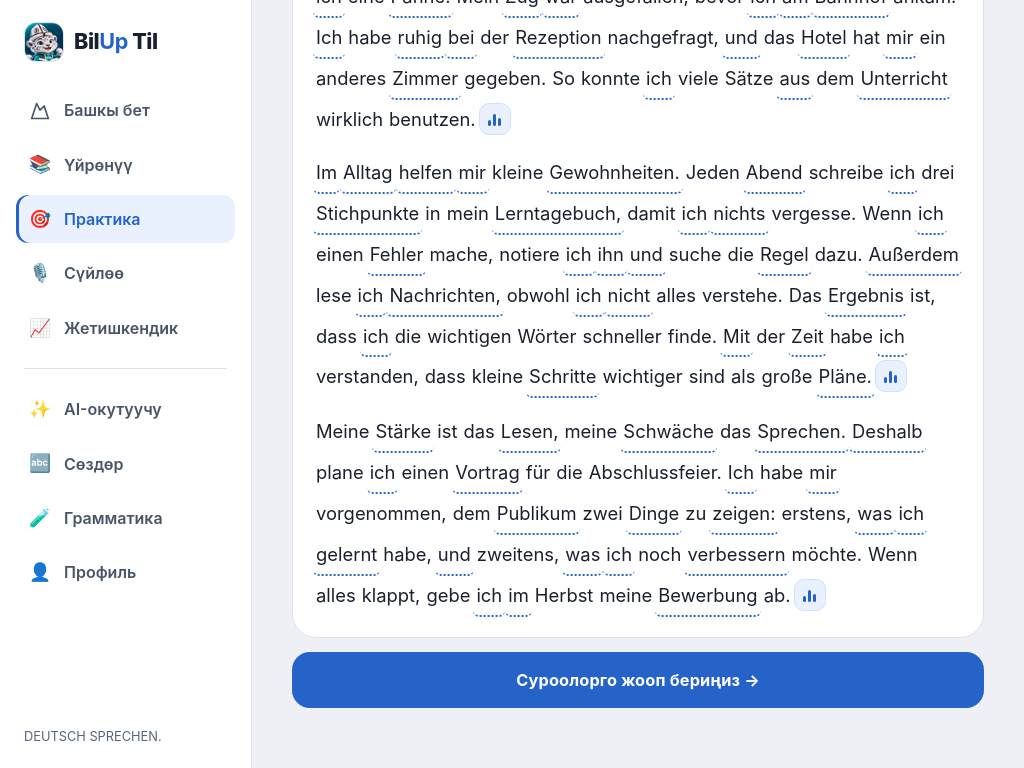
Scenario: reading and listening flows › ky: the reading shows its text and questions; answering one gives feedback and no error is logged
Later steps or results of the test are not shown.
(page scrolled)
Step 1. Click the button "Суроолорго жооп бериңиз →" → (638, 680), box [292,652,984,708]
(page scrolled)
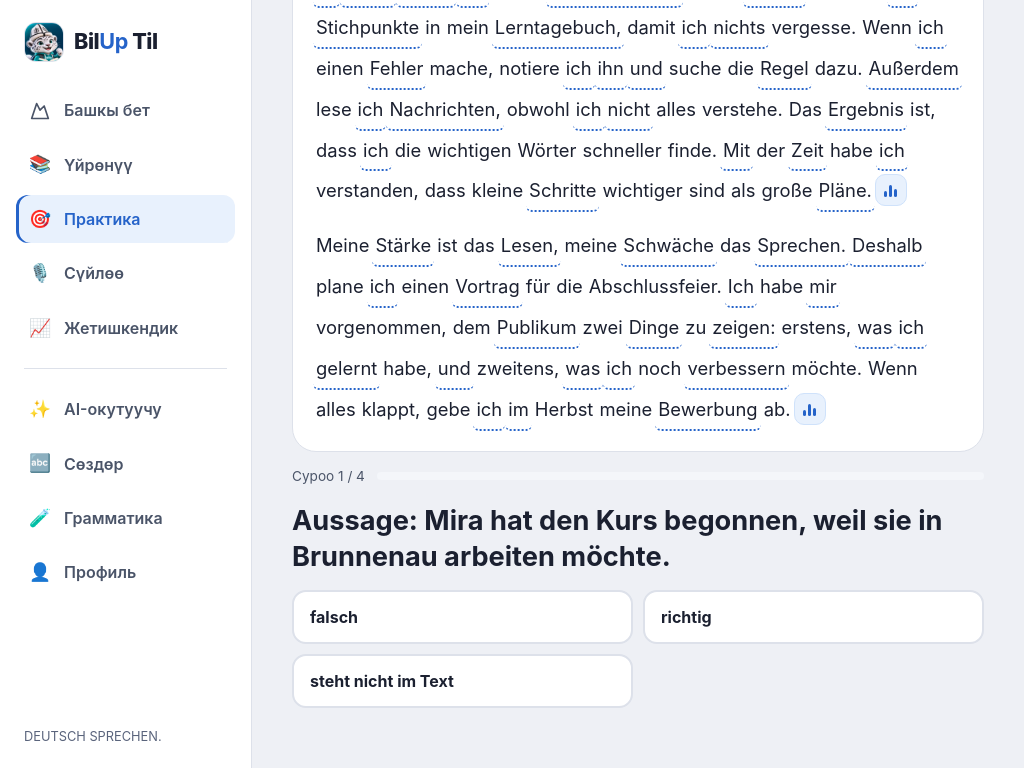
Check: the text "Aussage: Mira hat den Kurs begonnen, weil sie in Brunnenau arbeiten möchte." is shown, box [292,503,984,576]
Check: the button "falsch" is shown, box [292,590,633,644]
